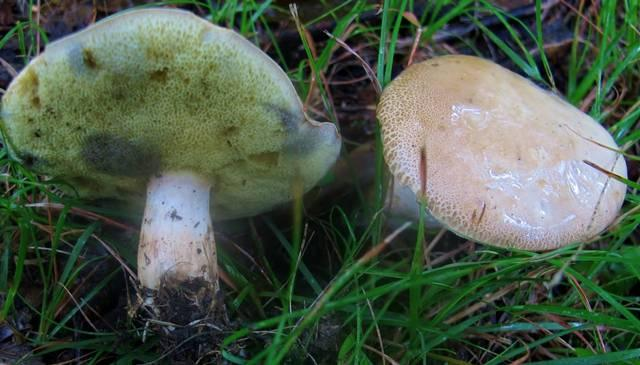Edible Mushroom: (0, 5, 342, 331), (375, 52, 628, 252)
